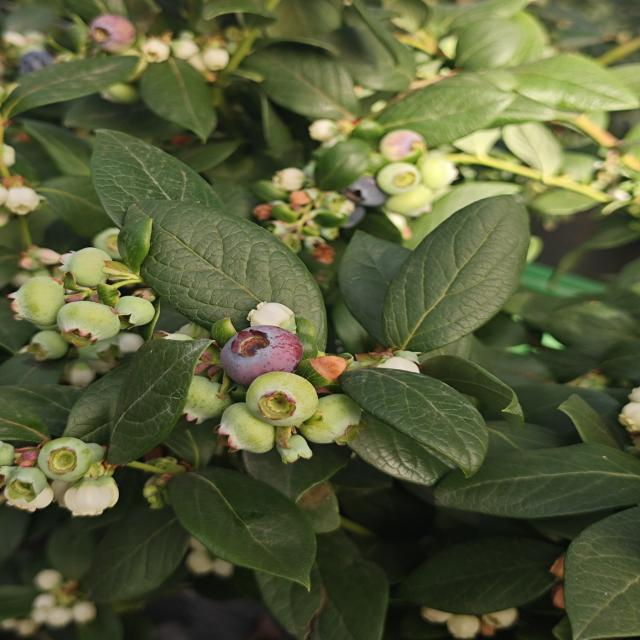ripe: (330, 173, 398, 231), (2, 47, 65, 83)
